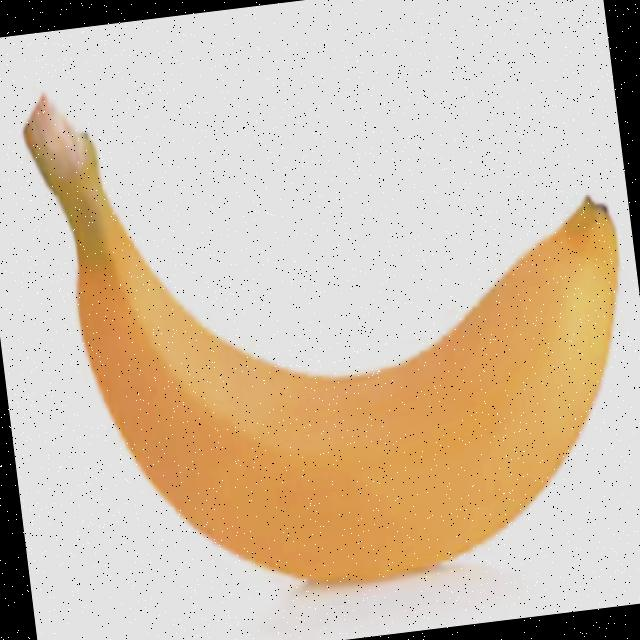Ripe: (4, 5, 640, 639)
